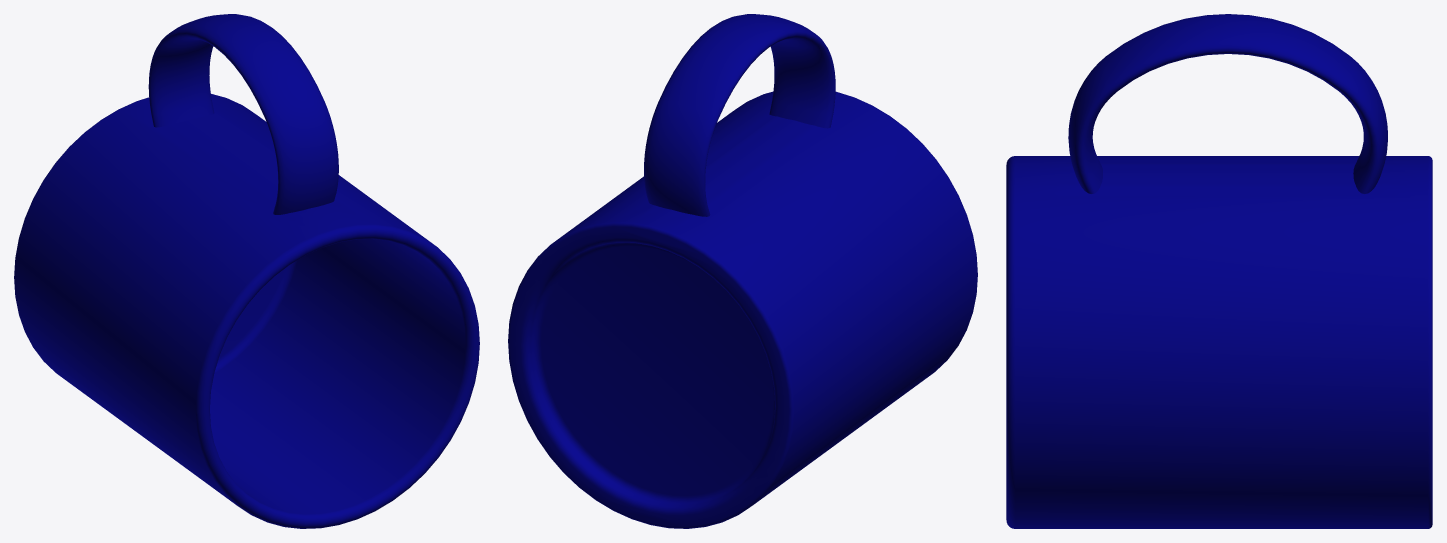
3 renders of one model, left to right at view 1: azimuth 30°, elevation 25°; view 2: azimuth 150°, elevation 25°; view 3: azimuth 270°, elevation 25°, orthographic. The views are drawn at different scales.
Bounding box in the file's own units: 0.4774 × 0.6895 × 0.5448.
